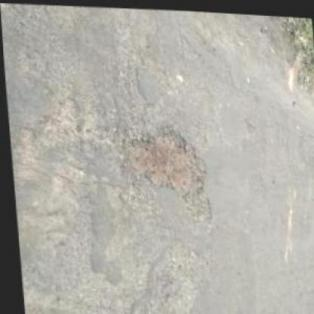Hueco: (117, 119, 211, 225)
